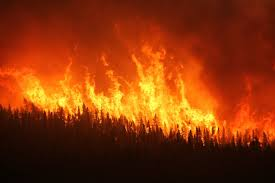fire: (9, 62, 217, 130)
smoke: (185, 5, 272, 70)
